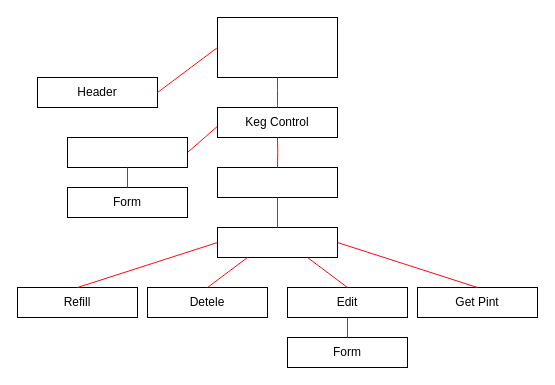
This 555x385 diagram has some shape labels left out. Here are the shapes that lost their labels. From the top down, the centre of each, then its label:
At [277,47]: "App".
At [127,152]: "New Keg".
At [277,182]: "Keg List".
At [277,242]: "Details".
